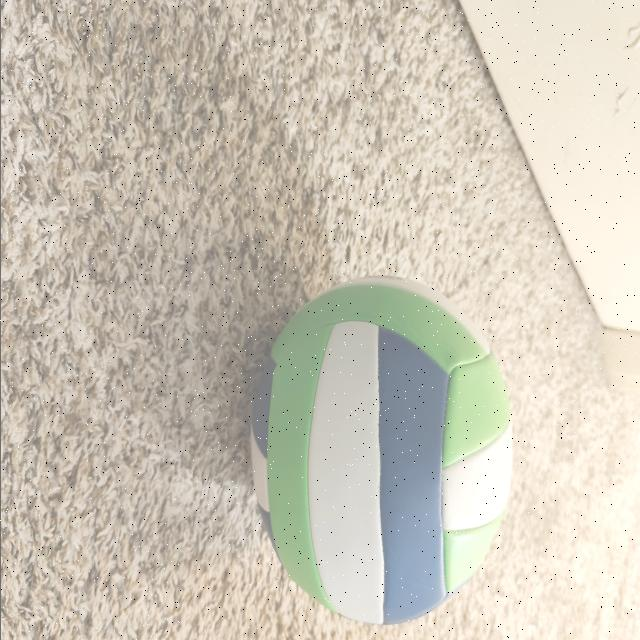ball: (255, 301, 507, 609)
